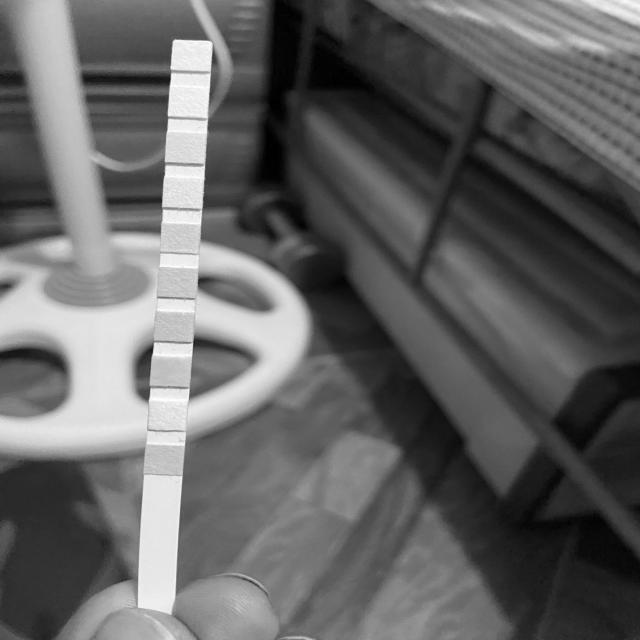Bilirubin: (148, 401, 186, 430)
Blood: (158, 270, 197, 297)
Glucose: (147, 446, 183, 474)
Ketone: (152, 358, 190, 387)
Leukocytes: (173, 42, 211, 70)
Nitrite: (169, 89, 208, 116)
Protein: (164, 180, 202, 208)
SpGravity: (156, 313, 193, 342)
Urobilinogen: (167, 134, 205, 162)
background: (0, 0, 640, 640)
pH: (162, 225, 200, 252)
strip: (139, 40, 213, 601)
